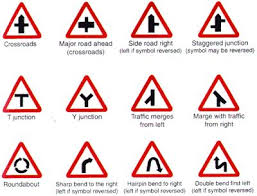Double_bend_left: (197, 138, 241, 178)
